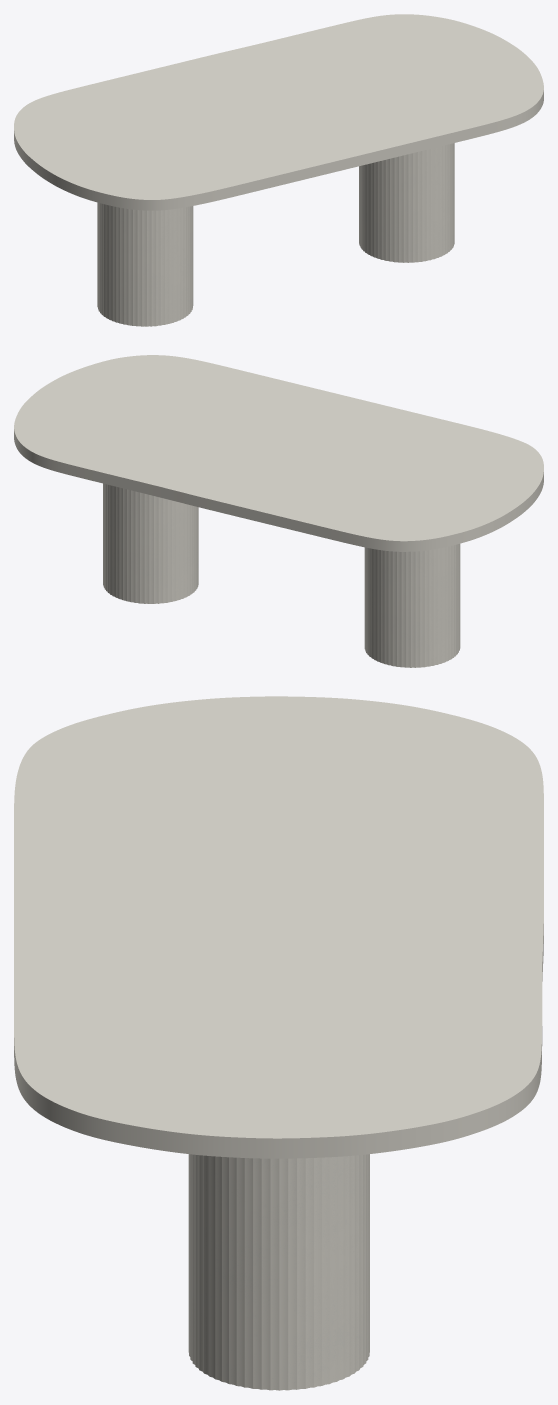
The model's file is pale_oval_standard_ripplesecond.glb.
3 renders of one model, top to bottom at view 1: azimuth 30°, elevation 25°; view 2: azimuth 150°, elevation 25°; view 3: azimuth 270°, elevation 25°, orthographic. The views are drawn at different scales.
Parts seen in each view (by area): view 1: standard_oval, ripplesecond; view 2: standard_oval, ripplesecond; view 3: standard_oval, ripplesecond.
Part boxes in pixels (<box>): standard_oval: <box>14,14,543,210</box>; ripplesecond: <box>97,143,454,326</box>; standard_oval: <box>14,355,543,551</box>; ripplesecond: <box>103,483,460,667</box>; standard_oval: <box>14,696,543,1158</box>; ripplesecond: <box>188,1154,369,1390</box>.
Size of the model in its own units: 7.5 by 2.5 by 3.8.
1 material, 1 textured.
